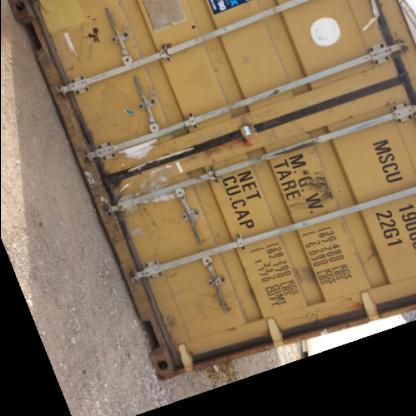Damage: (104, 118, 191, 238), (159, 275, 251, 350), (55, 7, 125, 82), (284, 154, 334, 218), (300, 286, 378, 326), (214, 39, 262, 77), (356, 233, 386, 271)
